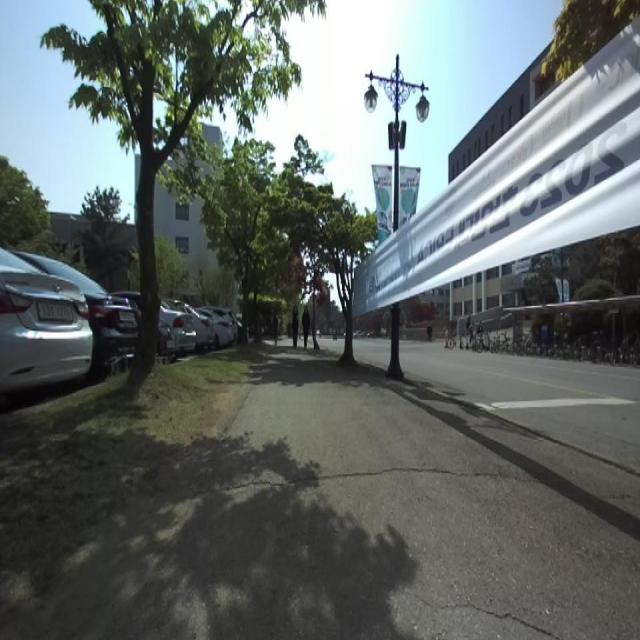sidewalk: (44, 342, 640, 640)
